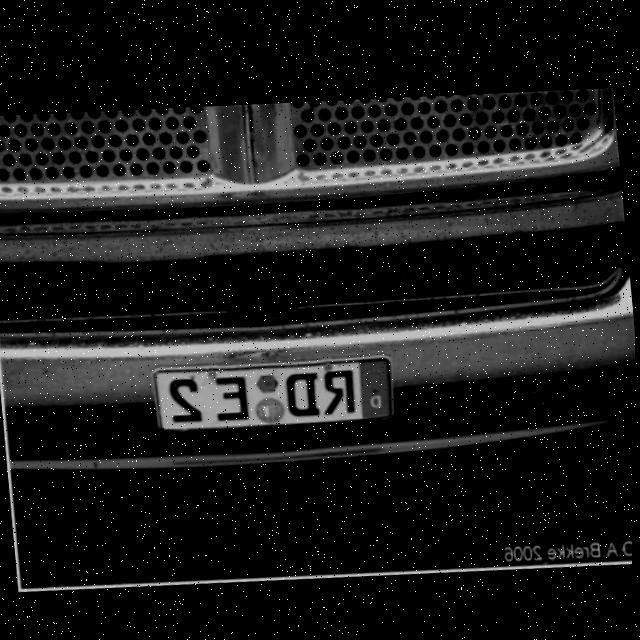license-plates: (152, 360, 393, 431)
